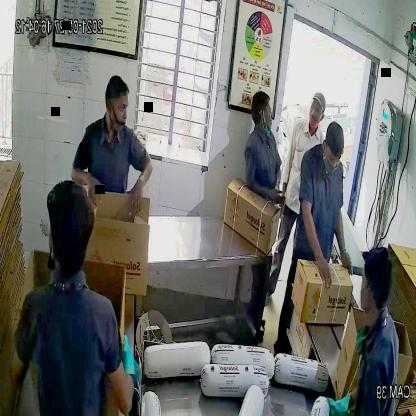no_goggles: (104, 95, 132, 119)
